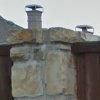Chimney: (20, 2, 48, 41)
